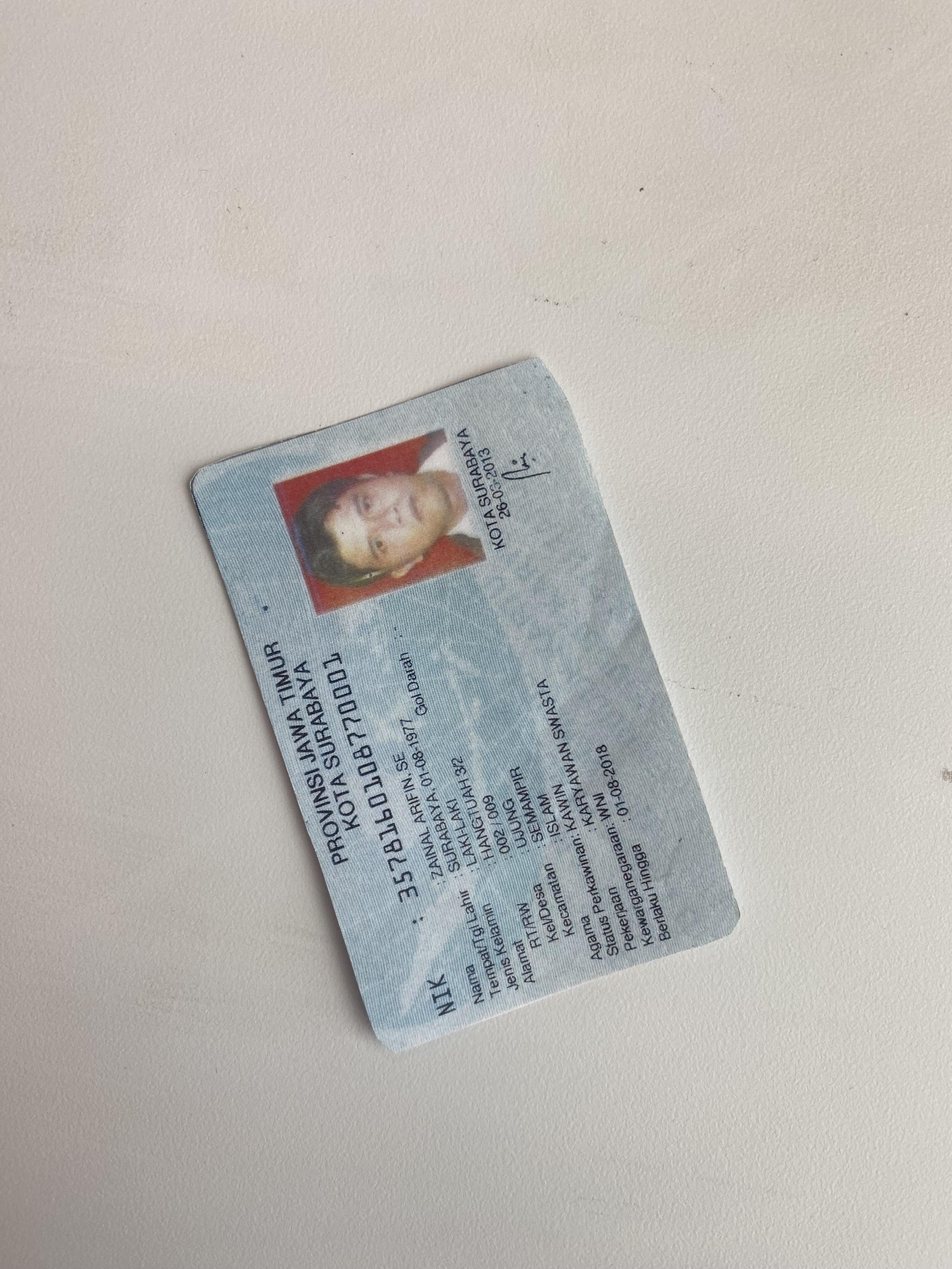ktp: (185, 348, 748, 1051)
